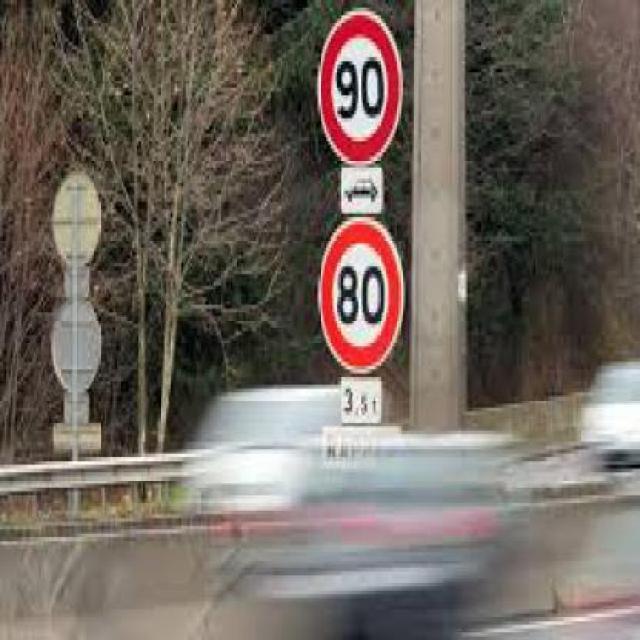forb_speed_over_80: (321, 222, 402, 373)
